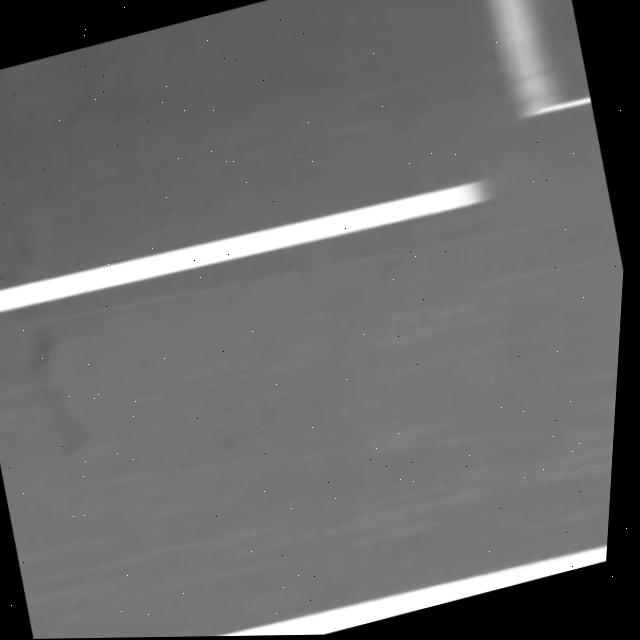center: (0, 181, 486, 312)
right: (209, 544, 607, 636)
